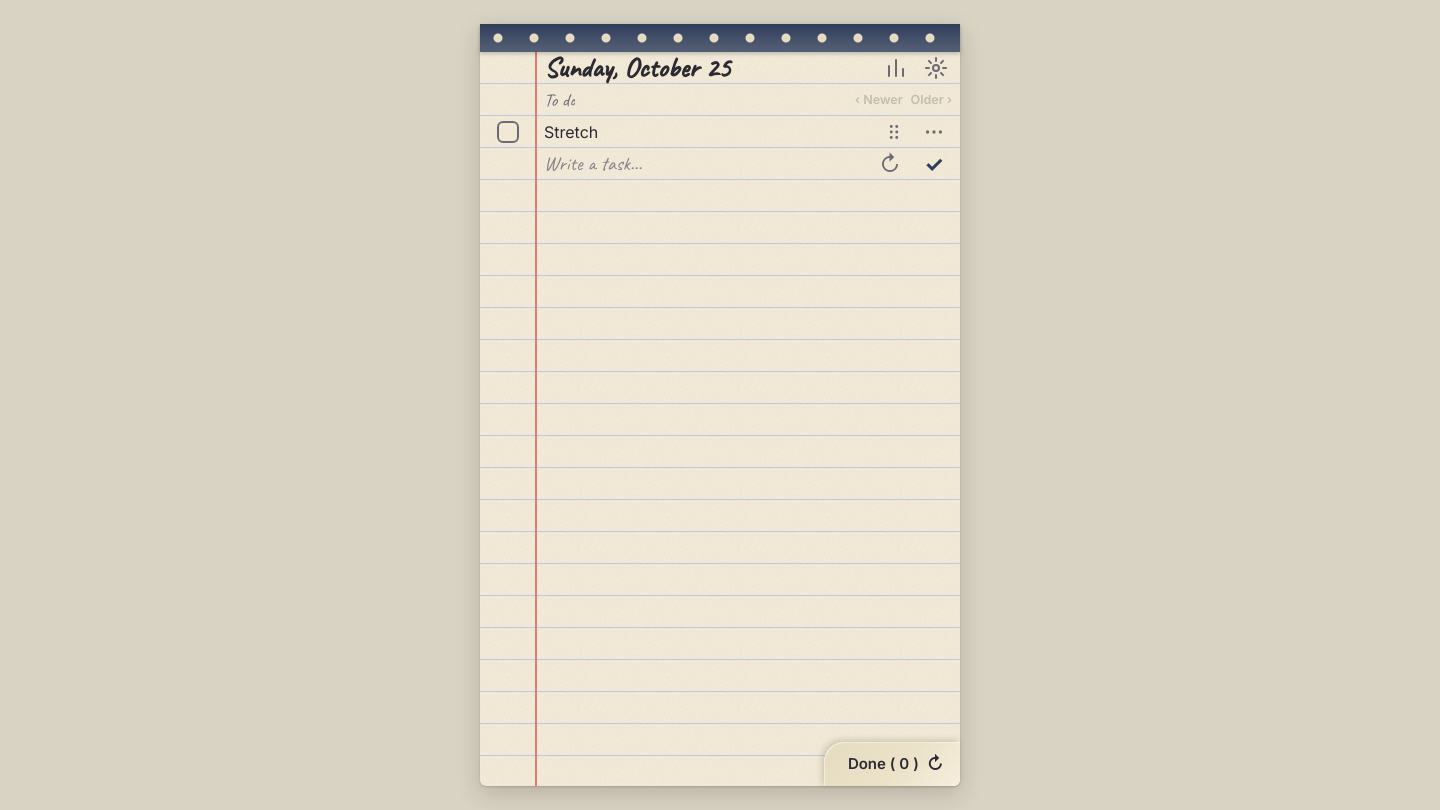
Test: the task menu › turns the routine flag on and off
What coordinates should you click on to do the following:
click the button named "Actions for: Stretch"
I would click on:
 (934, 132)
Its box is [912,110,956,154].
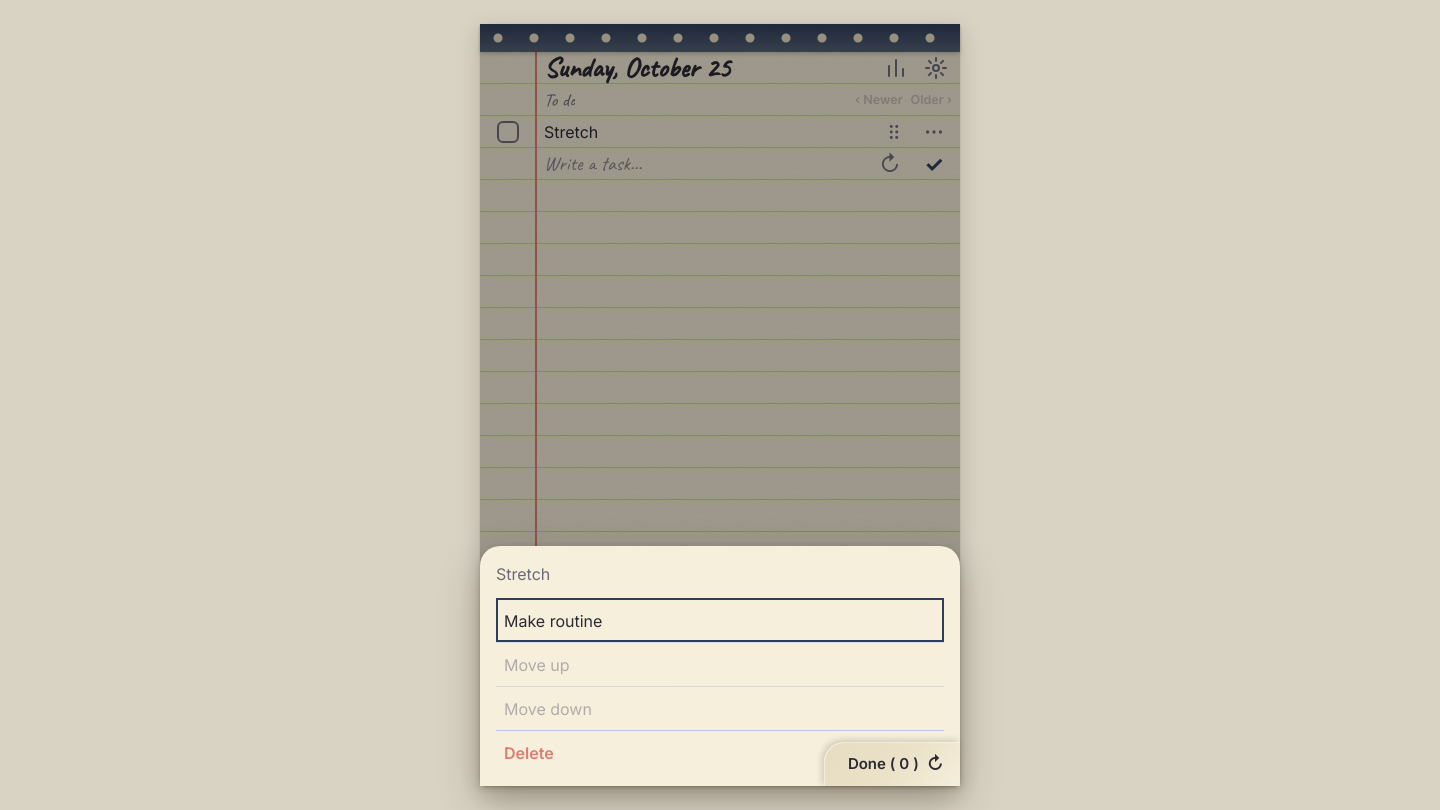
What coordinates should you click on to do the following:
click the button "Make routine"
I would click on:
 (553, 620)
Its box is [496,598,944,642].
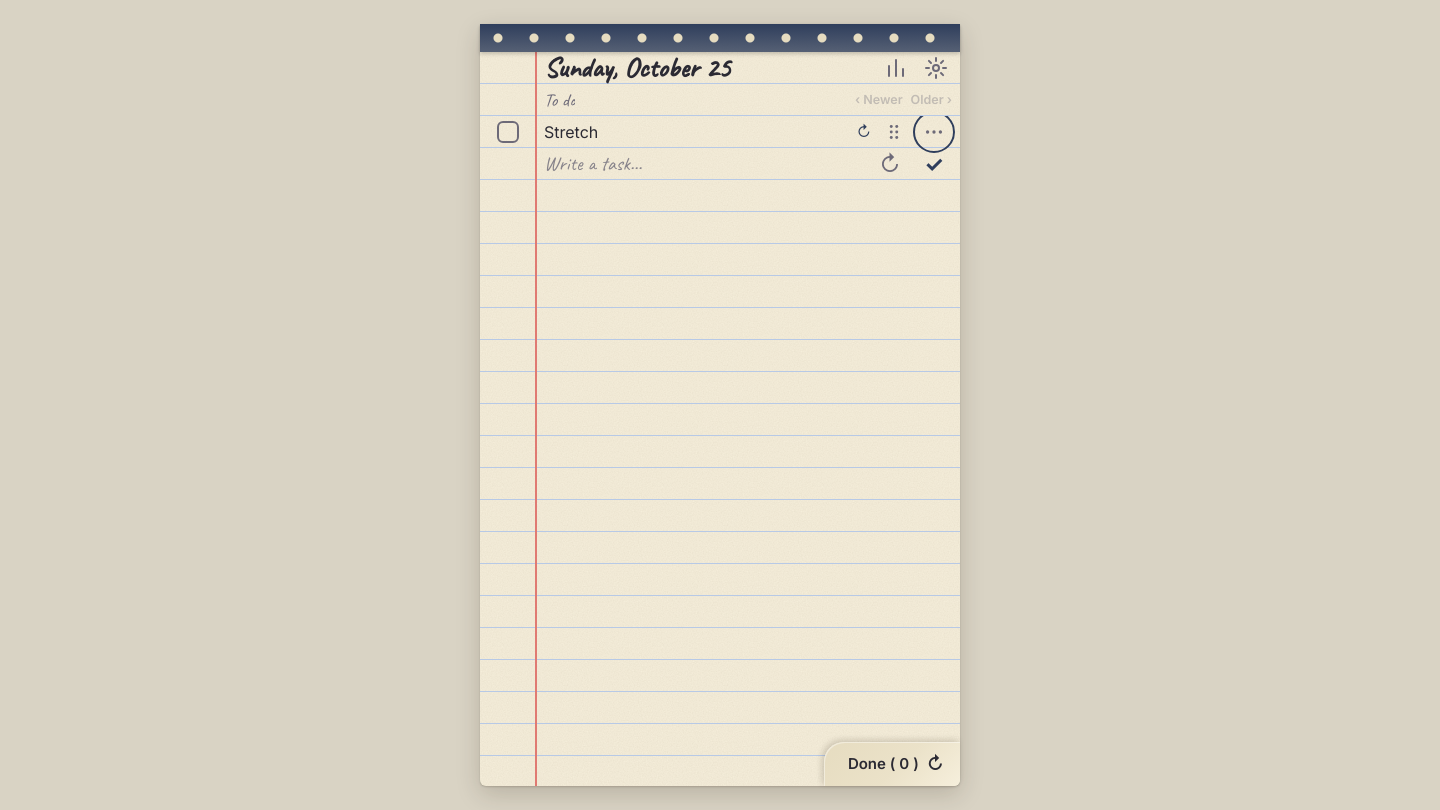
Now the dialog is gone
Now the picture named "Routine" is shown, box [857,122,871,141]
What coordinates should you click on to do the following:
click the button named "Actions for: Stretch"
I would click on:
 (934, 132)
Its box is [912,110,956,154].
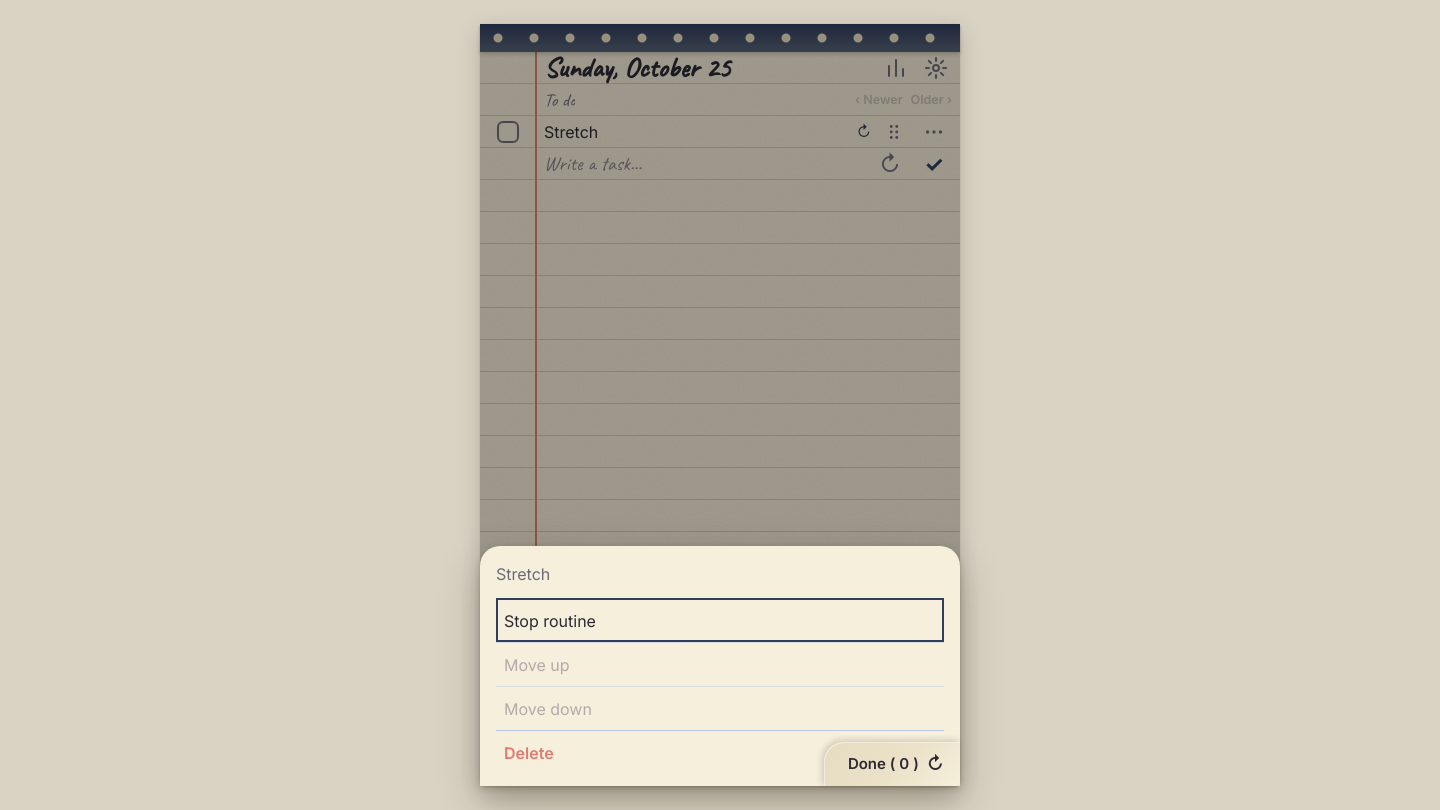
What coordinates should you click on to do the following:
click the button "Stop routine"
I would click on:
 (550, 620)
Its box is [496,598,944,642].
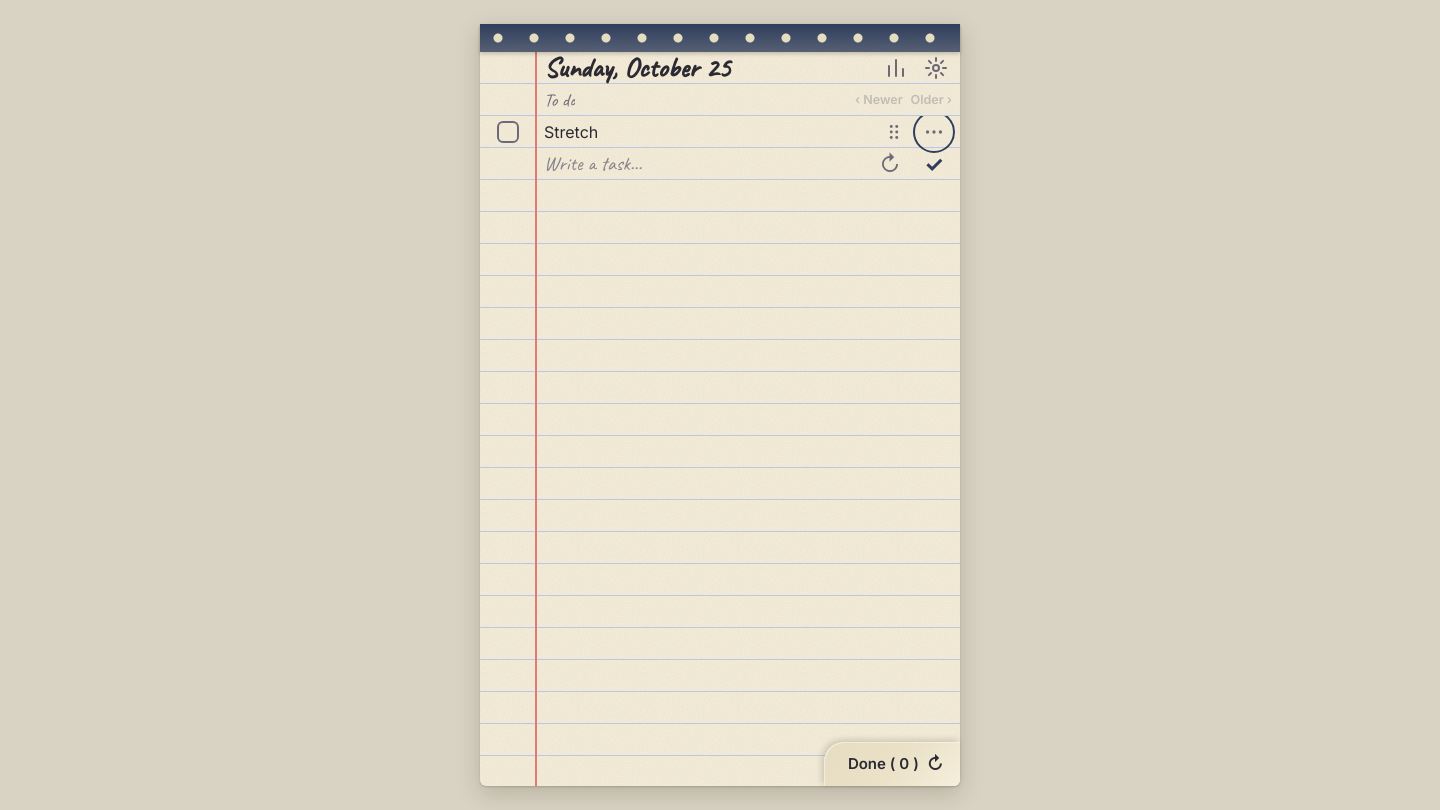
Now the button "routine" is gone
